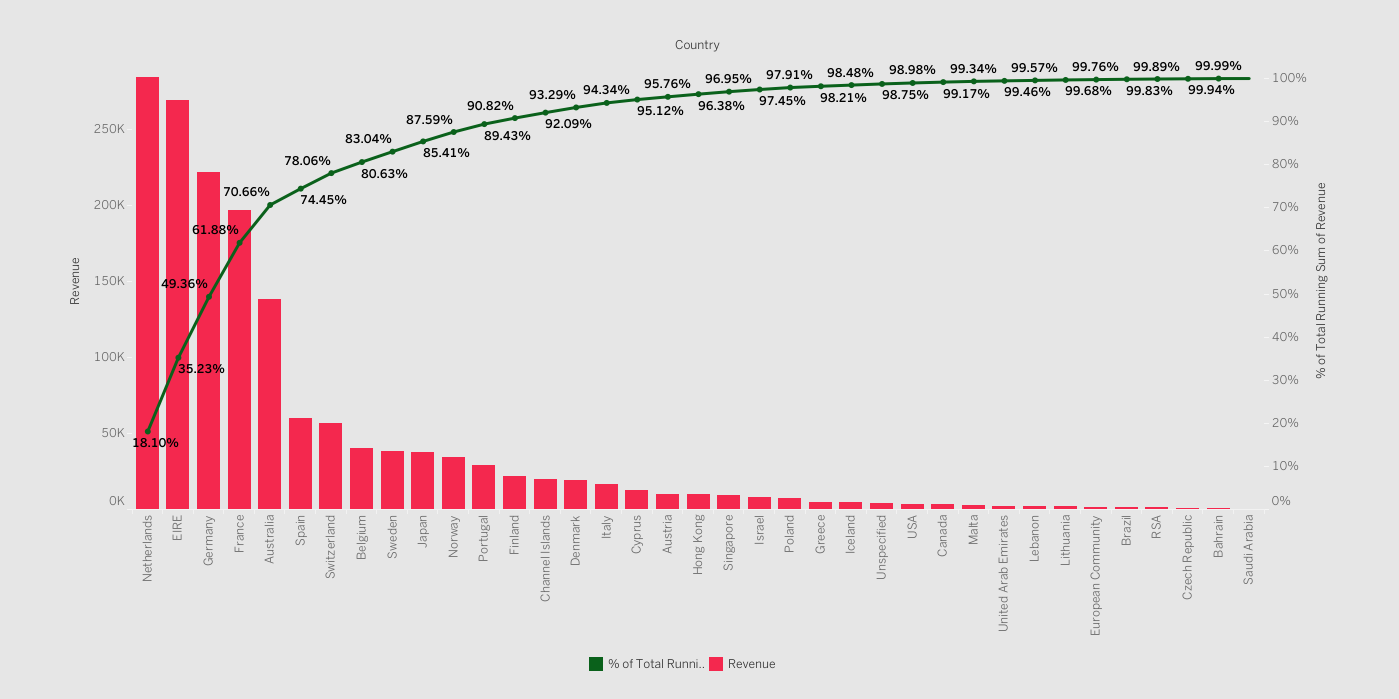

Layout of this report page (visuals, bound fields, positions):
{"tool":"tableau","page":{"name":"Sales_Revenue_Pareto","canvas":[1400,700],"ordinal":8},"visuals":[{"type":"worksheet","title":"Pareto Chart","mark":"Line","rows":["Calculation_1441996330369675264","Calculation_1441996330369675264"],"cols":["Country"],"box":[60,35,1276,614]},{"type":"legend","title":"Pareto Chart","param":"[federated.120o6hi1b9q1li126ojbf0d454lv].[:Measure Names]","box":[586,654,316,37]}]}

Visuals, with their boxes in screenshot pixels (x1, y1, x2, y2), scaled from the page's 1400x700 canvas onto the 1399x699 screenshot:
"Pareto Chart" worksheet (Line marks): crop(60, 35, 1335, 648)
"Pareto Chart" legend: crop(586, 653, 901, 690)
